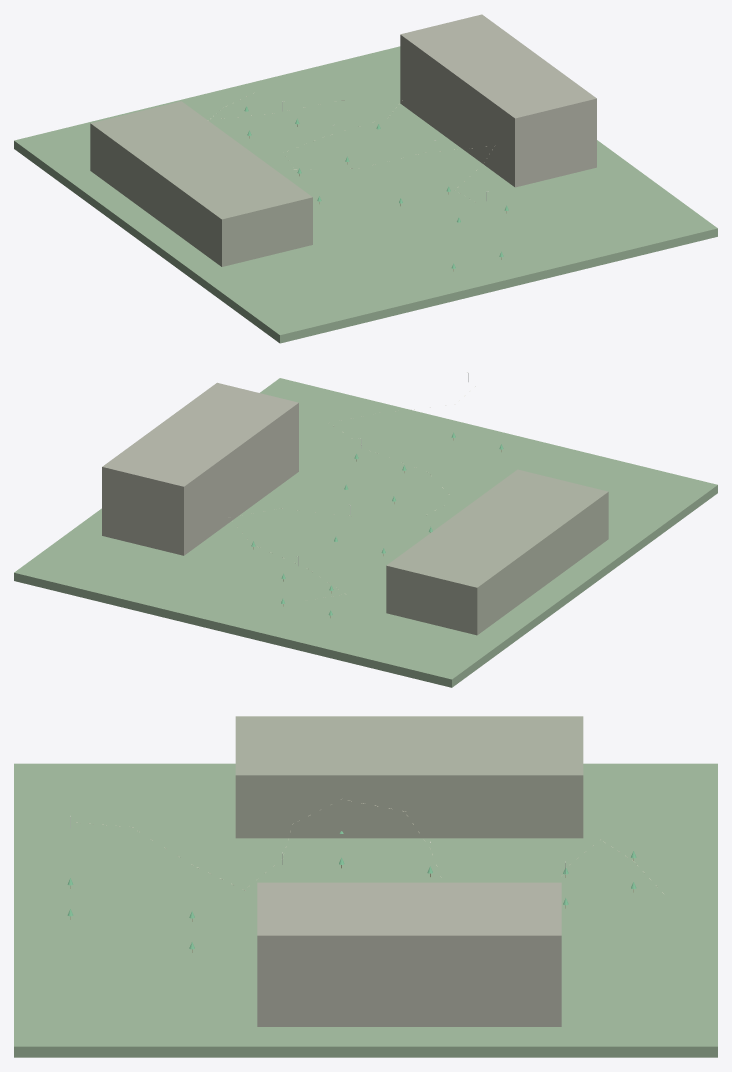
The model's file is serra-do-rio-do-rastro.glb.
3 views of the same model, one above another, from view 1: azimuth 30°, elevation 25°; view 2: azimuth 150°, elevation 25°; view 3: azimuth 270°, elevation 25° (orthographic). The views are drawn at different scales.
Visible parts, largest first — view 1: mountain_ground, rock_cliff_east, rock_cliff_west; view 2: mountain_ground, rock_cliff_east, rock_cliff_west; view 3: mountain_ground, rock_cliff_east, rock_cliff_west.
Part boxes in pixels (x1,y1,x2,y2): mountain_ground: (14, 46, 717, 343); rock_cliff_east: (400, 14, 596, 187); rock_cliff_west: (90, 101, 312, 266); mountain_ground: (14, 378, 717, 687); rock_cliff_east: (102, 382, 298, 555); rock_cliff_west: (386, 469, 608, 635); mountain_ground: (14, 763, 717, 1057); rock_cliff_east: (257, 882, 561, 1026); rock_cliff_west: (235, 716, 583, 838).
Size of what is drawn, in the model's own units: 385 by 67.56 by 405.
